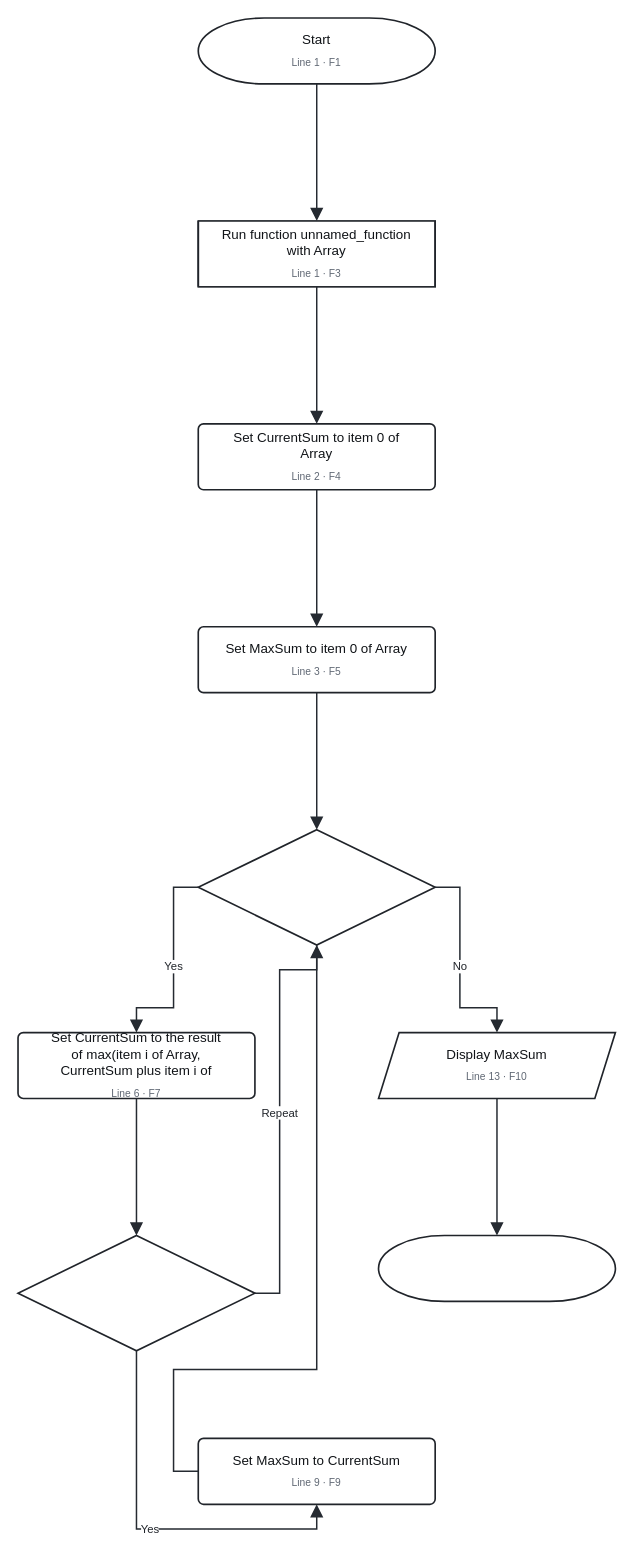
Some shapes in this 634 by 1559 pixel diagram are drawn without their labels. Each missing label, with the centre of its shape:
"CurrentSum is greater than MaxSum? Line 8 · F8" goes at (136,1292).
"End Line 1 · F2" goes at (496,1268).
"For i from 1 to the length of Array minus 1 plus 1 Line 5 · F6" goes at (316,886).
